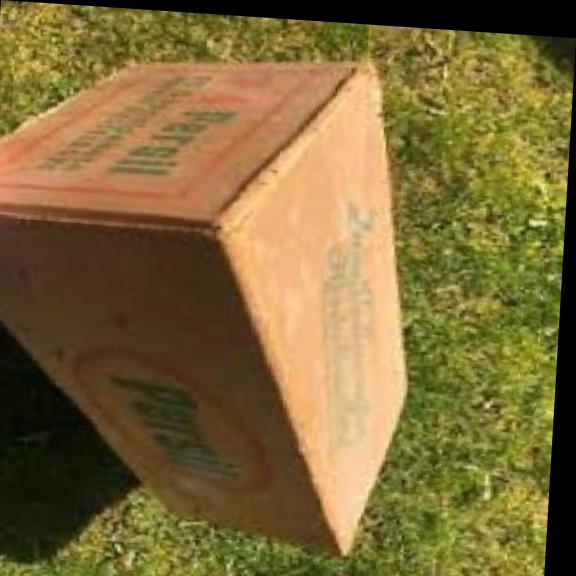Kertas: (0, 63, 404, 553)
